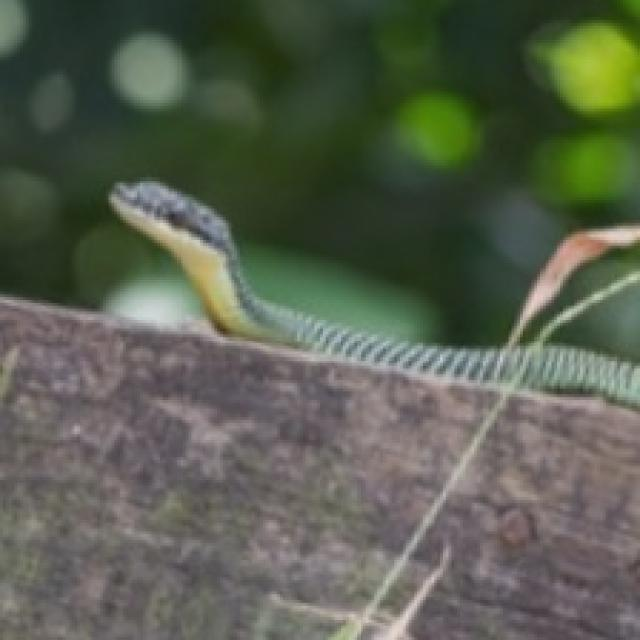paradise tree snake: (109, 180, 637, 406)
